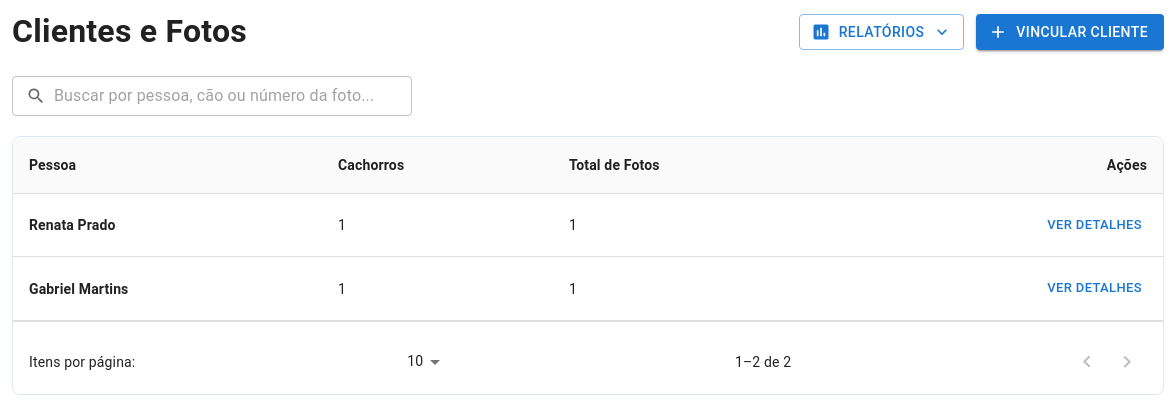
Test: ClientsPage › filters clients with search input and clears filter
The width and height of the screenshot is (1176, 412).
Expected: the text "Renata Prado" is shown, [13,193,322,257]
Expected: the text "Gabriel Martins" is shown, [13,257,322,321]
Type "Renata" into the field with placeholder "Buscar por pessoa, cão ou número da foto..." at [233, 96], box [54,76,412,116]
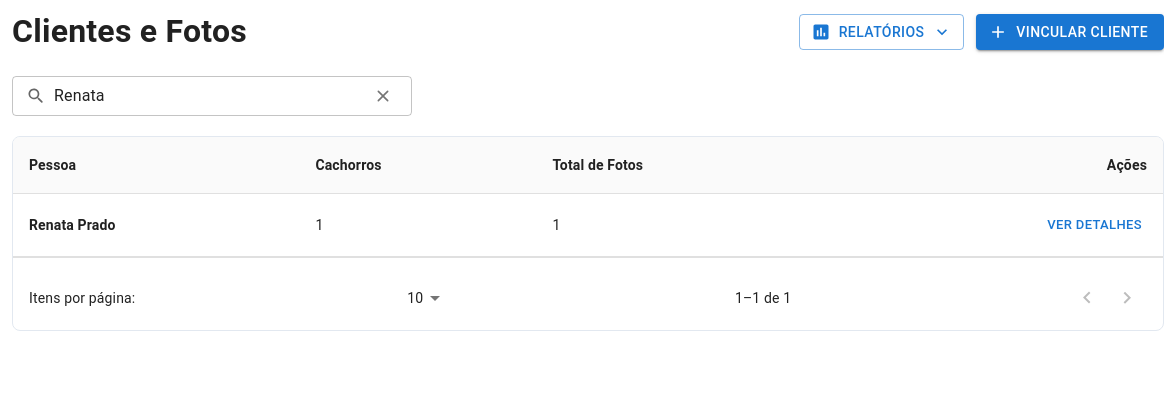
Expected: the text "Renata Prado" is shown, [13,193,299,257]
Result: the text "Gabriel Martins" is gone
Click the button named "Cancelar" at [383, 96], box [368,80,398,110]
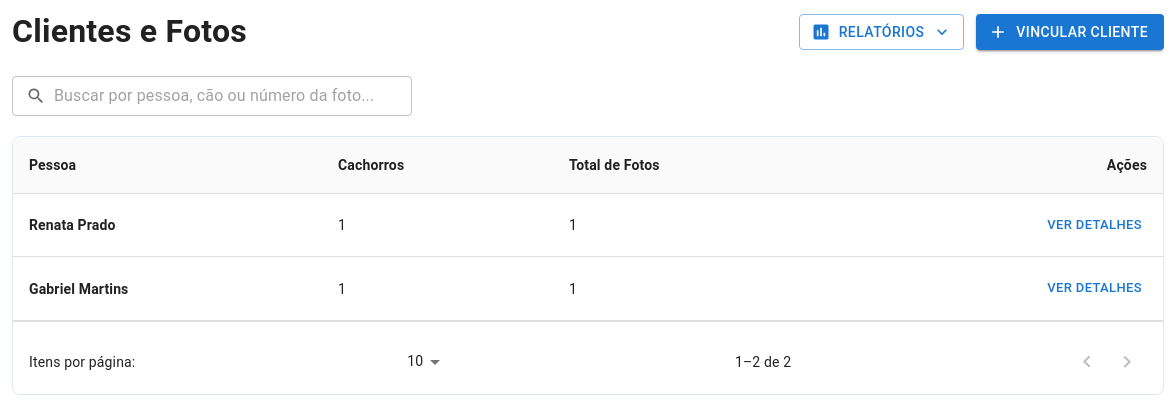
Expected: the text "Renata Prado" is shown, [13,193,322,257]
Result: the text "Gabriel Martins" is shown at [13,257,322,321]
